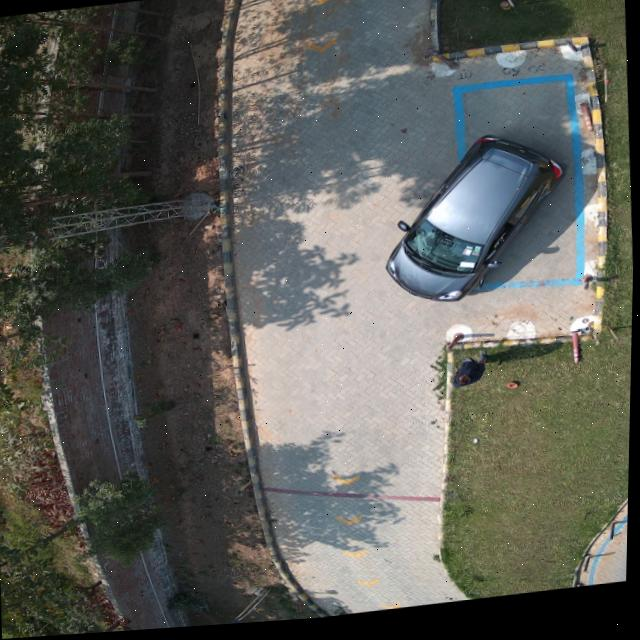car: (385, 140, 567, 309)
